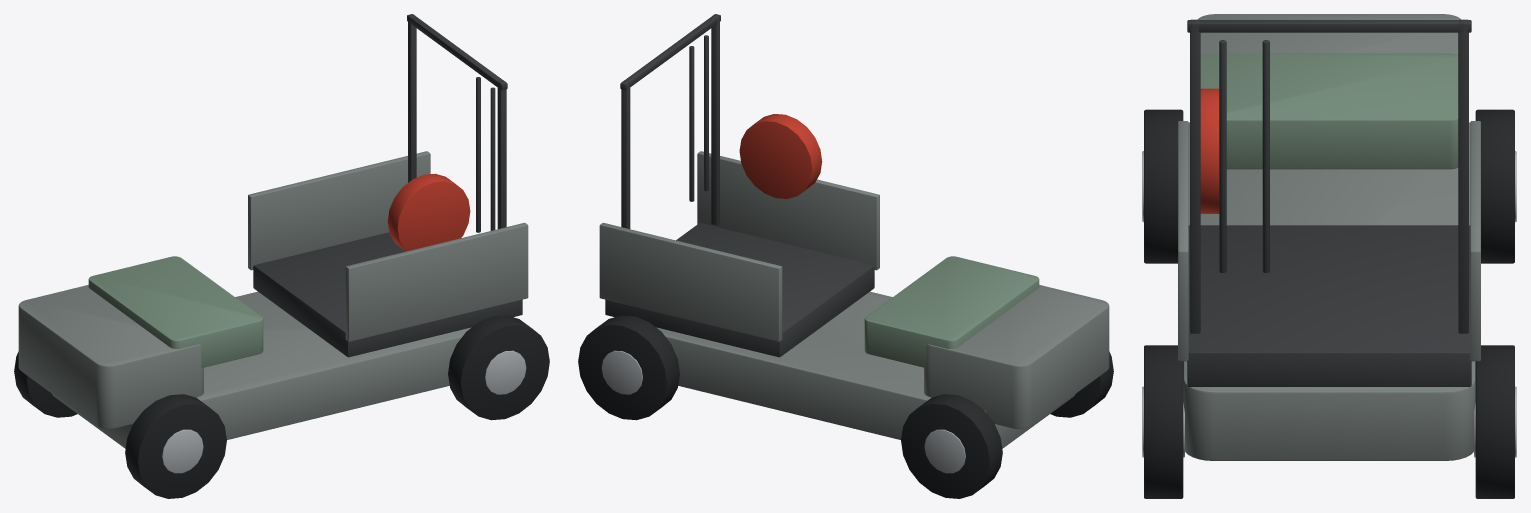
Rendered from maintenance_cart_municipal.glb.
3 renders of one model, left to right at view 1: azimuth 30°, elevation 25°; view 2: azimuth 150°, elevation 25°; view 3: azimuth 270°, elevation 25°, orthographic. The views are drawn at different scales.
Parts seen in each view (by area): view 1: ServiceCart_Chassis, ServiceCart_Hood, ServiceCart_BedSide_L, ServiceCart_BedSide_R, ServiceCart_Seat, ServiceCart_BedFloor, ServiceWheel_Front_L_Tire, ServiceWheel_Rear_L_Tire, Maintenance_HoseReel, ServiceCart_SafetyRackPost_R, ServiceCart_SafetyRackPost_L, ServiceWheel_Front_L_Hub (+5 smaller); view 2: ServiceCart_Chassis, ServiceCart_Hood, ServiceCart_BedSide_R, ServiceCart_BedFloor, ServiceCart_BedSide_L, ServiceCart_Seat, ServiceWheel_Front_R_Tire, ServiceWheel_Rear_R_Tire, Maintenance_HoseReel, ServiceCart_SafetyRackPost_L, ServiceCart_SafetyRackPost_R, ServiceWheel_Front_R_Hub (+5 smaller); view 3: ServiceCart_BedFloor, ServiceCart_Chassis, ServiceCart_Seat, ServiceCart_Hood, ServiceWheel_Rear_L_Tire, ServiceWheel_Rear_R_Tire, ServiceWheel_Front_L_Tire, ServiceWheel_Front_R_Tire, ServiceCart_SafetyRackTop, ServiceCart_SafetyRackPost_L, ServiceCart_SafetyRackPost_R, ServiceCart_BedSide_L (+4 smaller).
Part boxes in pixels (box(x1,y1,x2,y2)): ServiceCart_Chassis: box(52, 291, 471, 448); ServiceCart_Hood: box(18, 285, 203, 428); ServiceCart_BedSide_L: box(345, 222, 528, 341); ServiceCart_BedSide_R: box(248, 151, 430, 270); ServiceCart_Seat: box(88, 256, 263, 367); ServiceCart_BedFloor: box(253, 232, 522, 357); ServiceWheel_Front_L_Tire: box(125, 394, 226, 498); ServiceWheel_Rear_L_Tire: box(448, 315, 549, 420); Maintenance_HoseReel: box(387, 173, 470, 251); ServiceCart_SafetyRackPost_R: box(408, 14, 416, 182); ServiceCart_SafetyRackPost_L: box(497, 80, 506, 228); ServiceWheel_Front_L_Hub: box(162, 429, 203, 473); ServiceCart_Chassis: box(656, 291, 1075, 448); ServiceCart_Hood: box(924, 285, 1109, 428); ServiceCart_BedSide_R: box(599, 222, 782, 341); ServiceCart_BedFloor: box(605, 223, 874, 357); ServiceCart_BedSide_L: box(697, 151, 879, 270); ServiceCart_Seat: box(864, 256, 1039, 367); ServiceWheel_Front_R_Tire: box(901, 394, 1002, 498); ServiceWheel_Rear_R_Tire: box(578, 315, 679, 420); Maintenance_HoseReel: box(739, 114, 822, 198); ServiceCart_SafetyRackPost_L: box(711, 14, 719, 225); ServiceCart_SafetyRackPost_R: box(621, 80, 630, 228); ServiceWheel_Front_R_Hub: box(924, 429, 965, 473); ServiceCart_BedFloor: box(1187, 225, 1471, 386); ServiceCart_Chassis: box(1183, 122, 1475, 460); ServiceCart_Seat: box(1200, 53, 1458, 169); ServiceCart_Hood: box(1198, 14, 1460, 54); ServiceWheel_Rear_L_Tire: box(1144, 345, 1183, 498); ServiceWheel_Rear_R_Tire: box(1475, 345, 1514, 498); ServiceWheel_Front_L_Tire: box(1144, 109, 1183, 263); ServiceWheel_Front_R_Tire: box(1475, 109, 1514, 263); ServiceCart_SafetyRackTop: box(1187, 20, 1471, 32); ServiceCart_SafetyRackPost_L: box(1190, 19, 1200, 333); ServiceCart_SafetyRackPost_R: box(1458, 19, 1468, 333); ServiceCart_BedSide_L: box(1178, 121, 1188, 361).
Size of what is drawn, in the model's own units: 2.44 by 1.75 by 1.23.
